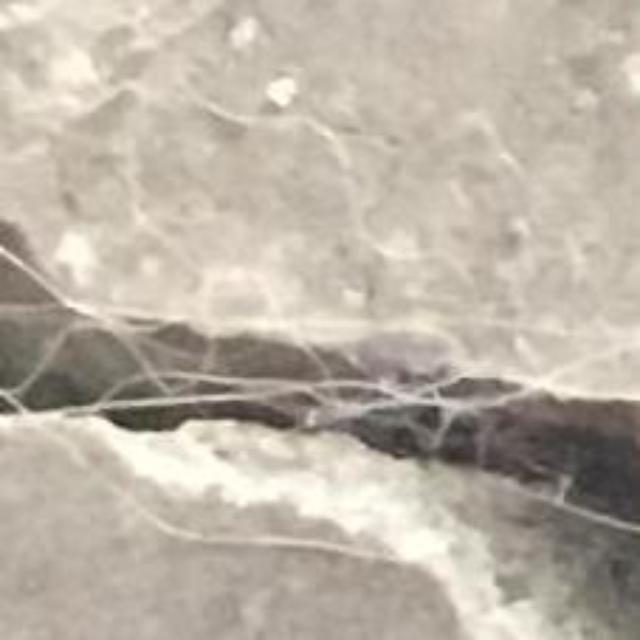crack: (0, 226, 639, 639)
